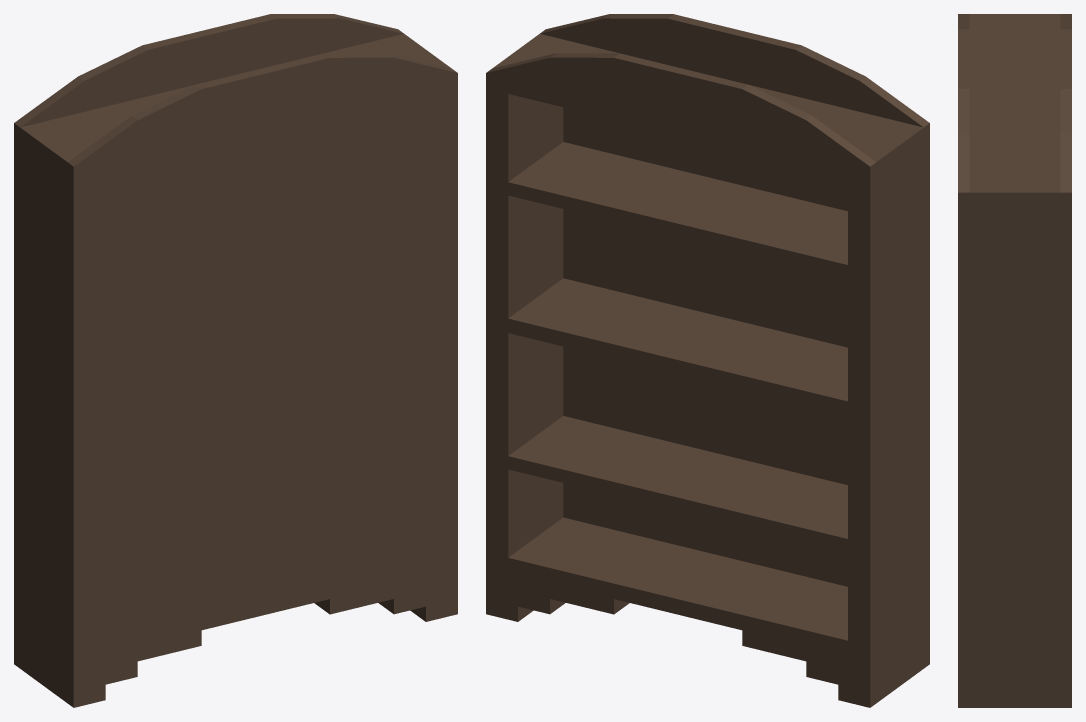
The model's file is bookshelf.glb.
3 views of the same model, side by side, from view 1: azimuth 30°, elevation 25°; view 2: azimuth 150°, elevation 25°; view 3: azimuth 270°, elevation 25° (orthographic). The views are drawn at different scales.
Parts seen in each view (by area): view 1: shelf; view 2: shelf; view 3: shelf.
Part boxes in pixels (x1,y1,x2,y2): shelf: (14,14,457,707); shelf: (486,14,929,707); shelf: (958,14,1071,707).
Size of the model in its own units: 1.62 by 2.38 by 0.4375.
Materials: 1 (1 with a texture image).
